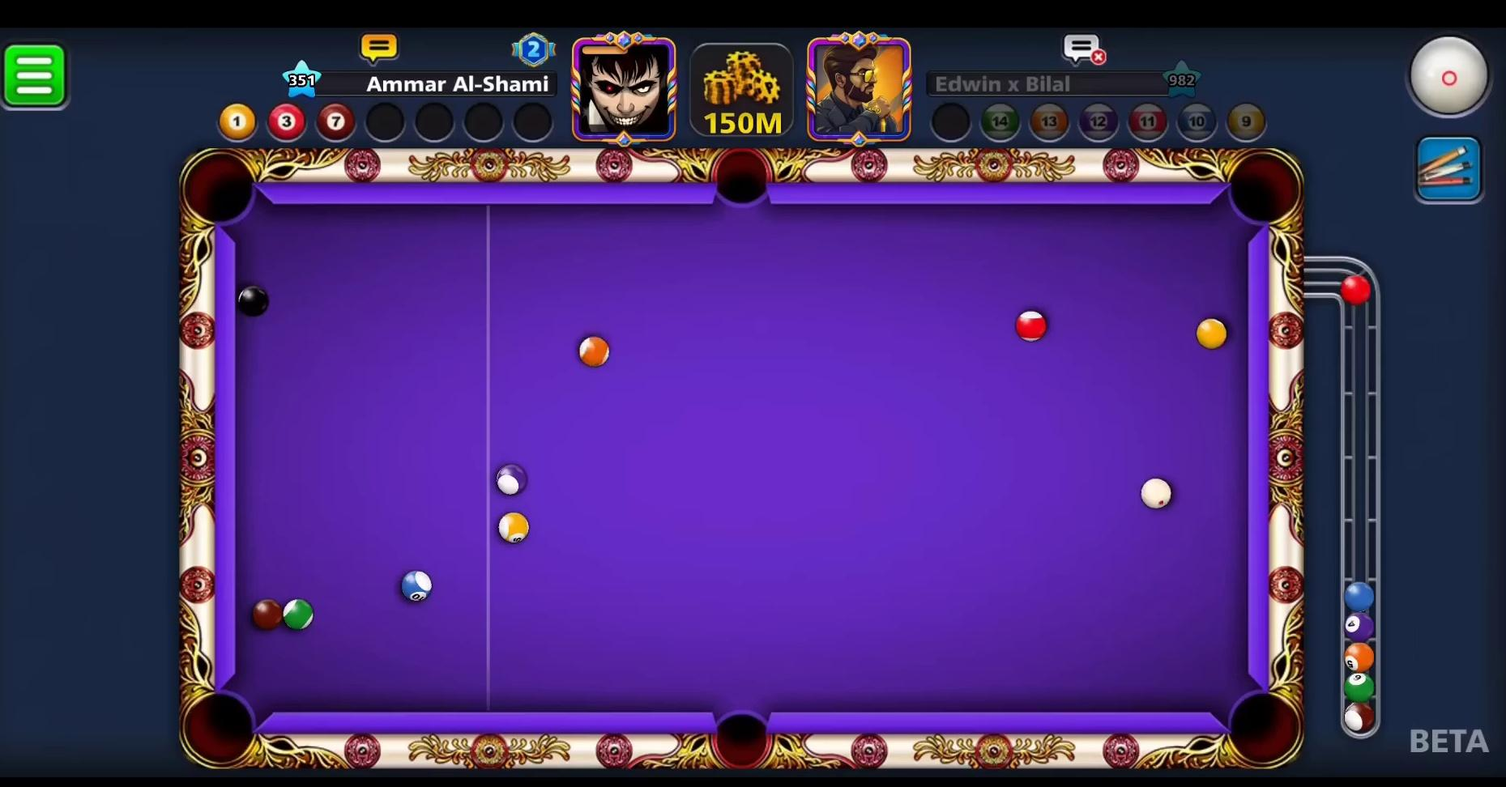Ball: (489, 500, 540, 552), (485, 455, 537, 502), (227, 279, 275, 327), (396, 564, 443, 613), (1004, 308, 1059, 349), (246, 594, 291, 638), (574, 332, 617, 374), (1136, 475, 1179, 515), (283, 592, 320, 637), (1194, 313, 1233, 353)
Hole: (172, 140, 284, 233), (1216, 679, 1311, 784), (166, 691, 273, 775), (1216, 134, 1302, 236), (697, 139, 778, 224), (703, 696, 784, 779)
Play_Area: (233, 205, 1248, 719)
Spin: (1395, 39, 1495, 119)
